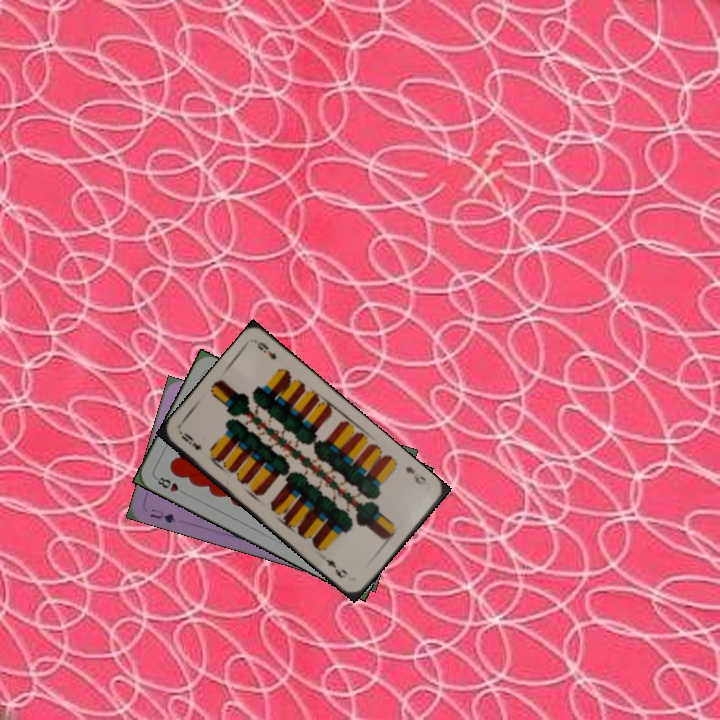E9: (401, 462, 430, 490), (176, 428, 204, 453)
GU: (146, 504, 179, 526)
H8: (151, 473, 189, 497)
